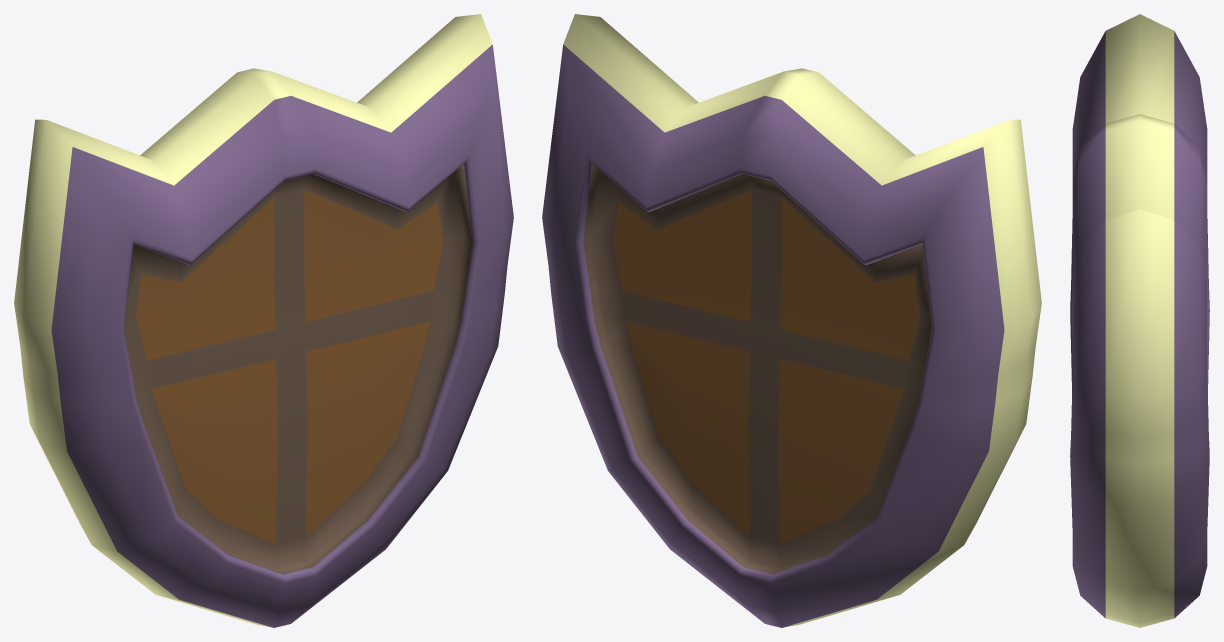
The model's file is Shield_MDL 1.fbx.
3 views of the same model, side by side, from view 1: azimuth 30°, elevation 25°; view 2: azimuth 150°, elevation 25°; view 3: azimuth 270°, elevation 25° (orthographic). The views are drawn at different scales.
Visible parts, largest first — view 1: Shield_GEO; view 2: Shield_GEO; view 3: Shield_GEO.
Boxes of the visible parts, bbox=[...] form: Shield_GEO: bbox=[14, 14, 513, 627]; Shield_GEO: bbox=[542, 14, 1041, 627]; Shield_GEO: bbox=[1070, 14, 1209, 627].
Bounding box in the file's own units: 46.95 × 51.93 × 12.83.
